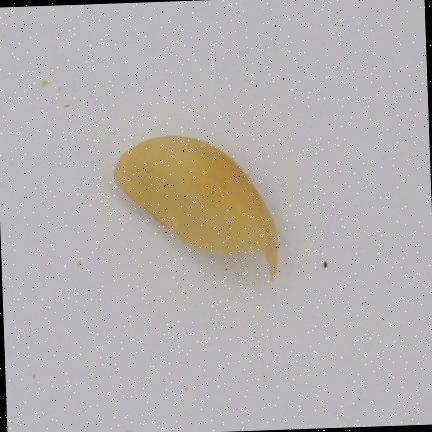parchment: (114, 135, 277, 278)
